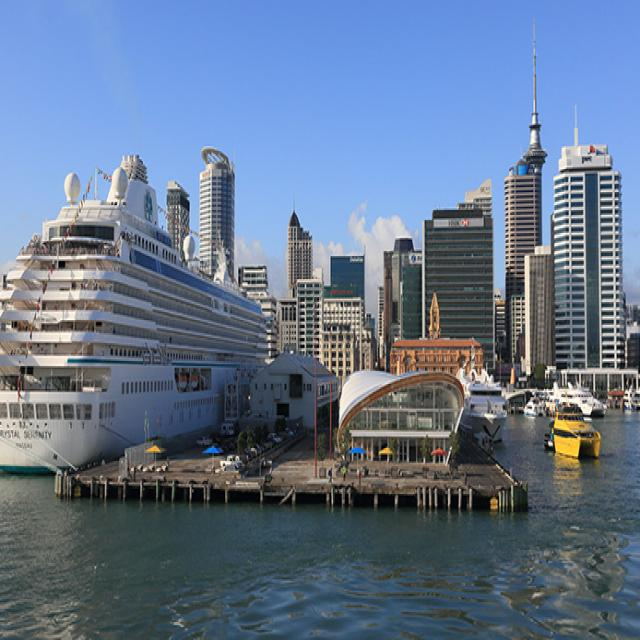passenger ship: (0, 187, 273, 464), (462, 372, 510, 448), (548, 398, 598, 466)
